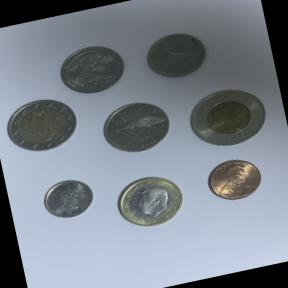coin: (176, 74, 278, 160), (106, 164, 196, 238), (94, 90, 180, 164), (1, 90, 84, 160), (51, 36, 132, 102), (198, 150, 271, 212), (36, 170, 102, 228)
